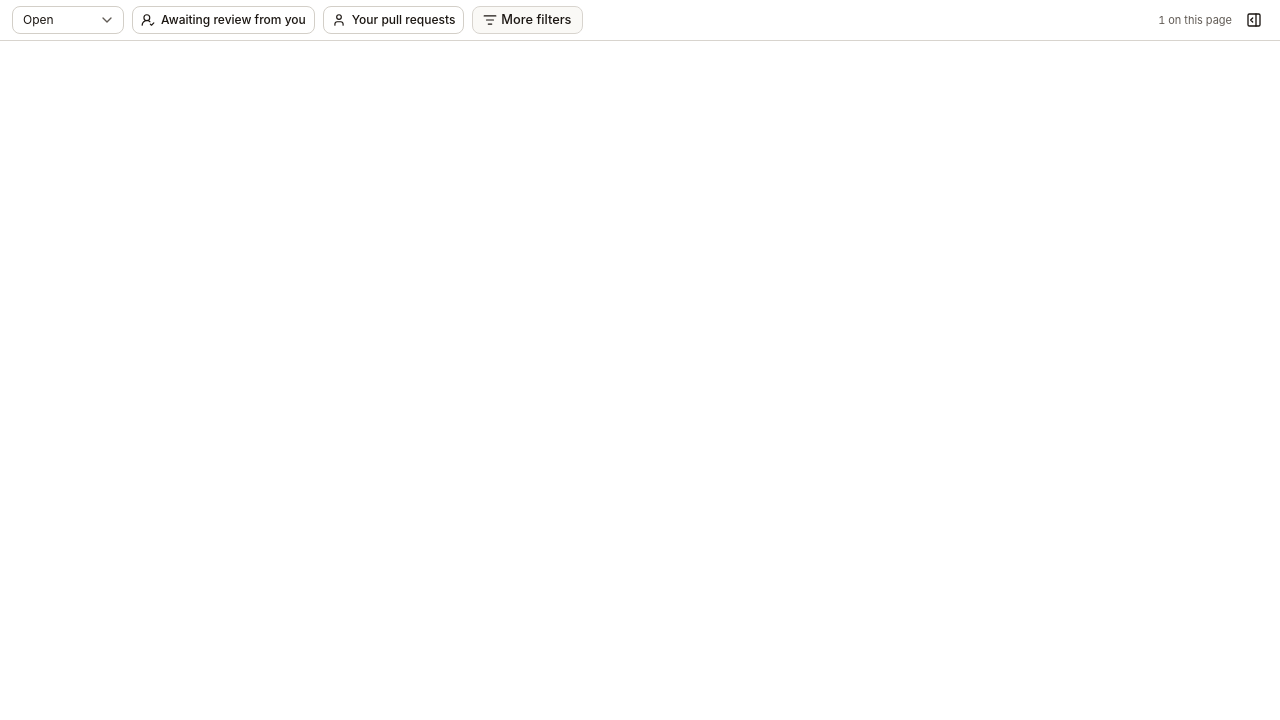
Test: InboxFiltersBar More filters text fields › keeps a refused author on screen, marks the field invalid, and clears that on the next good value
Click the button "More filters": (527, 20) [472,6,582,34]
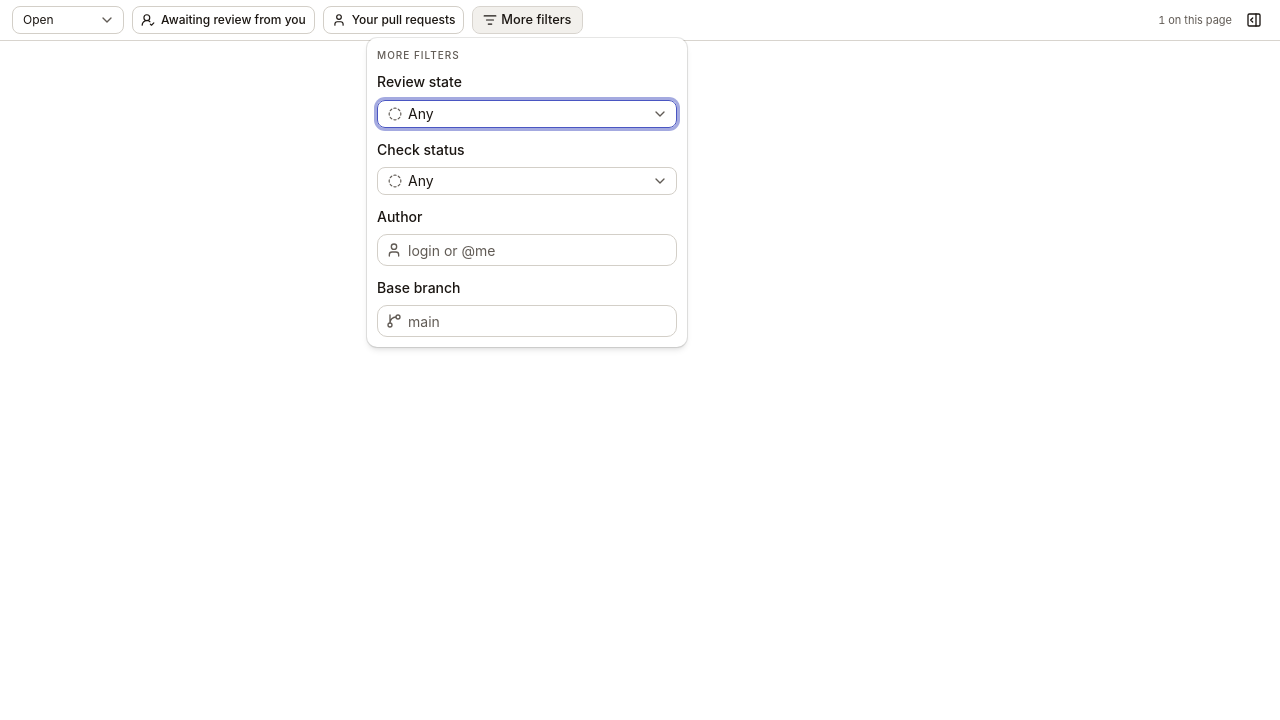
In the field labelled "Author": (539, 250) [402,234,676,266], type "John Smith"
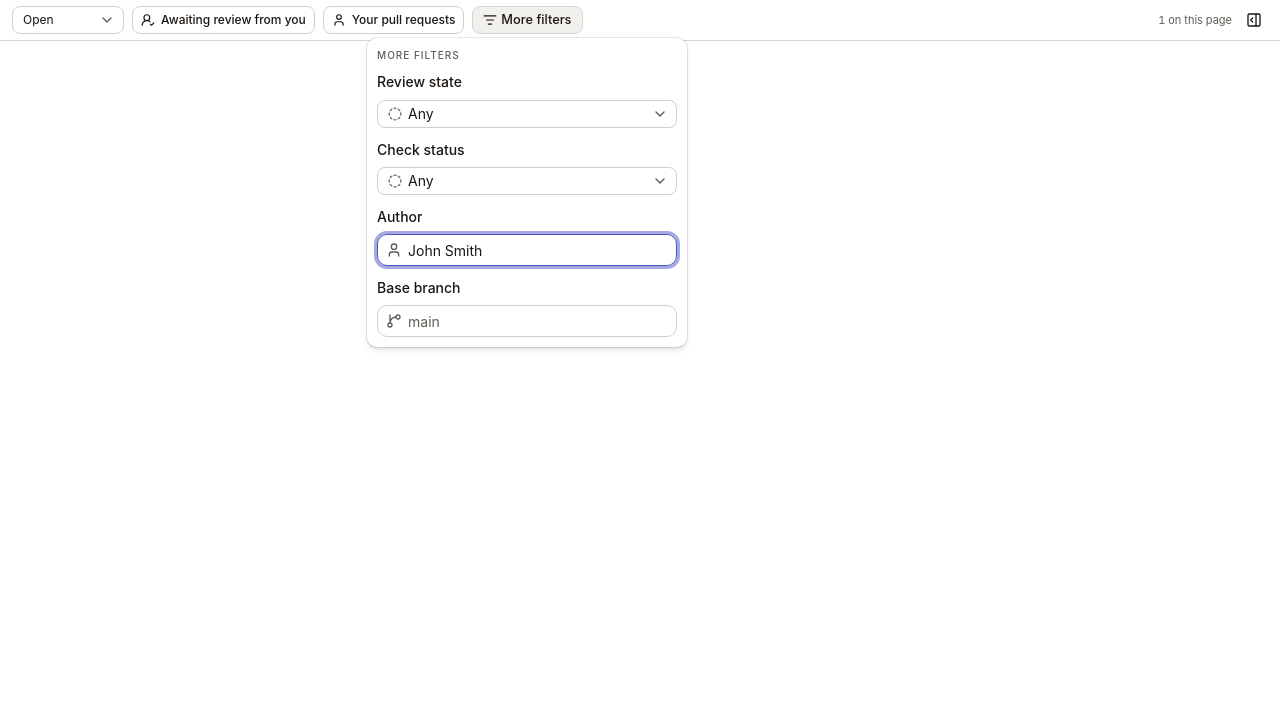
Press Enter
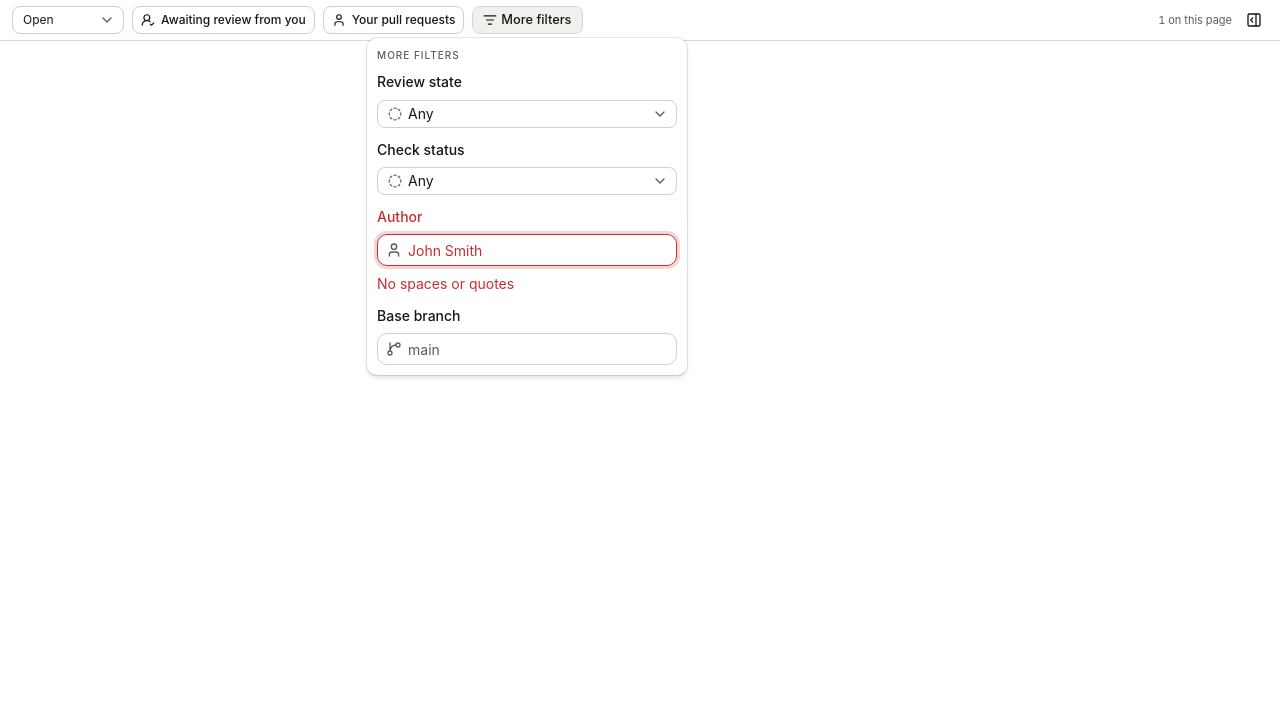
Check: the message reads "No spaces or quotes", box [377,275,514,292]
Replace the text in the field labelled "Author" with "octocat": (539, 250) [402,234,676,266]
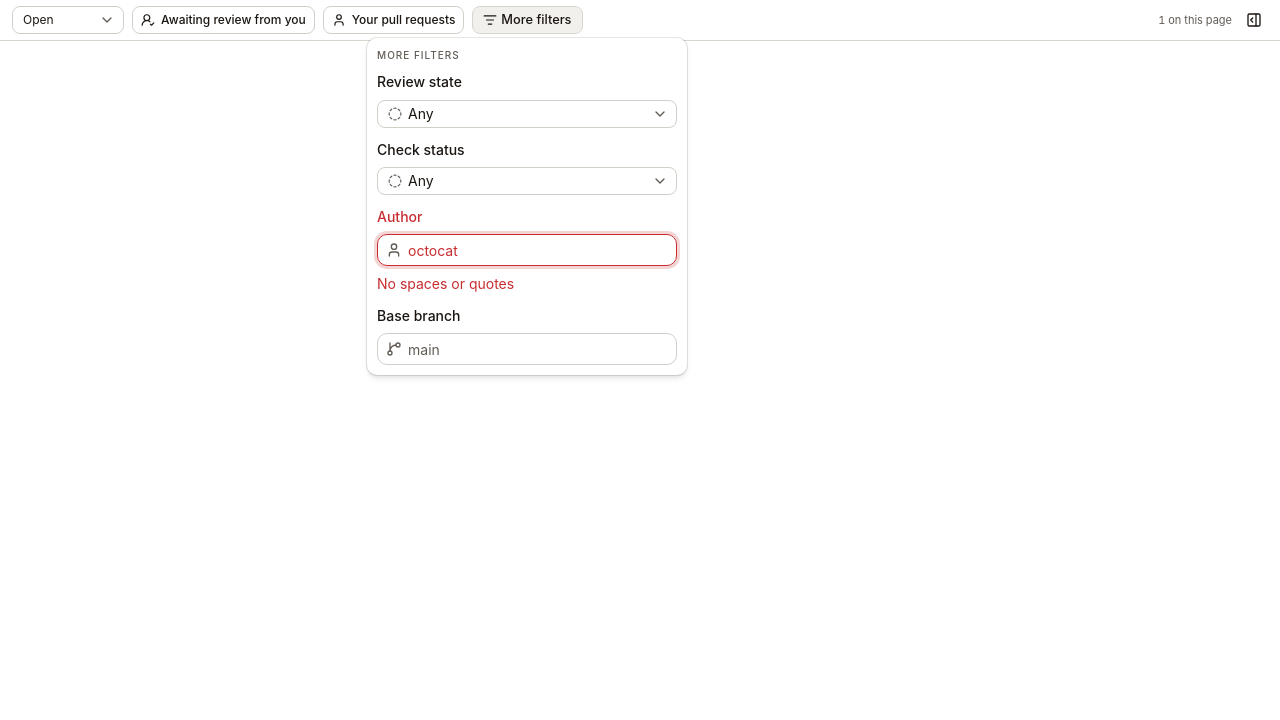
Press Enter
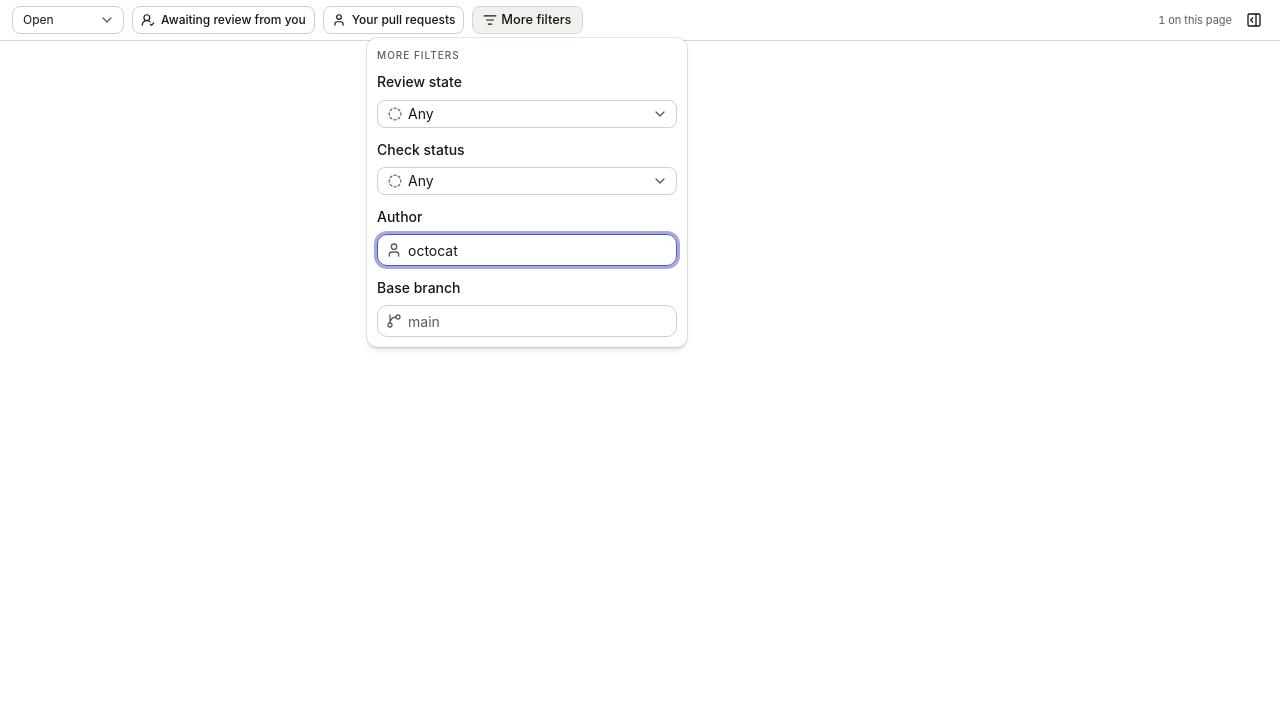
Check: the message "No spaces or quotes" is gone
